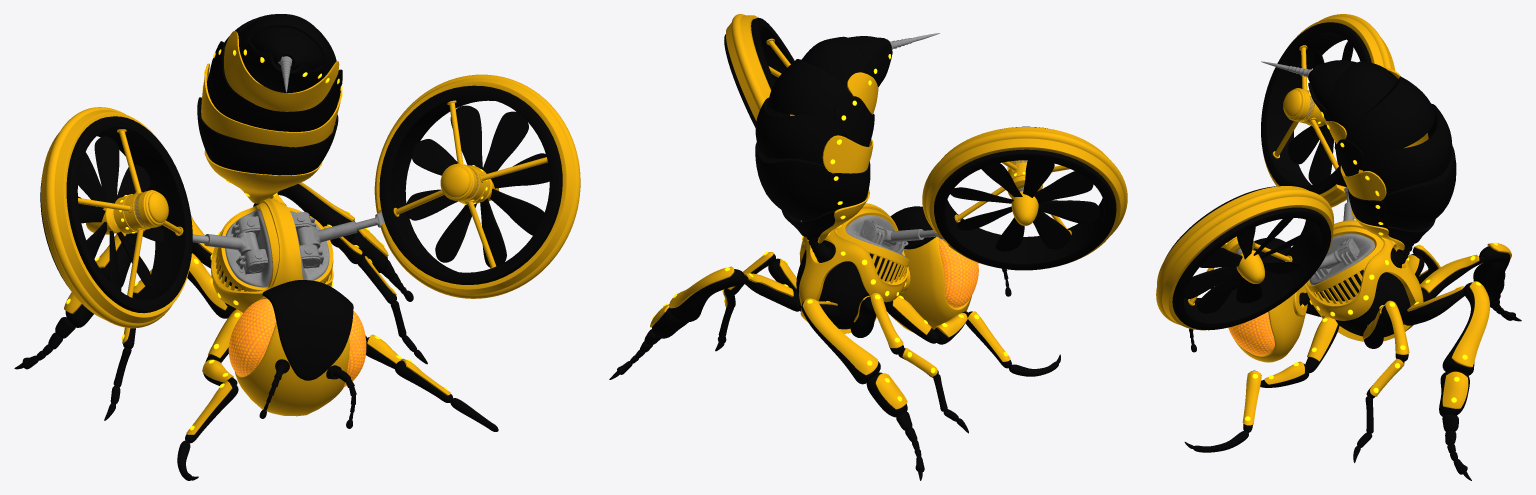
Rendered from honeybee.glb.
The picture shows the model from 3 angles, left to right: view 1: azimuth 30°, elevation 25°; view 2: azimuth 150°, elevation 25°; view 3: azimuth 270°, elevation 25°; orthographic projection. The views are drawn at different scales.
Visible parts, largest first — view 1: honeybee_pose58_XR; view 2: honeybee_pose58_XR; view 3: honeybee_pose58_XR.
Part boxes in pixels (<box>): honeybee_pose58_XR: <box>14,14,580,480</box>; honeybee_pose58_XR: <box>609,14,1127,480</box>; honeybee_pose58_XR: <box>1156,14,1521,480</box>.
Size of the model in its own units: 0.2873 by 0.2202 by 0.2179.
1 material, 1 textured.
